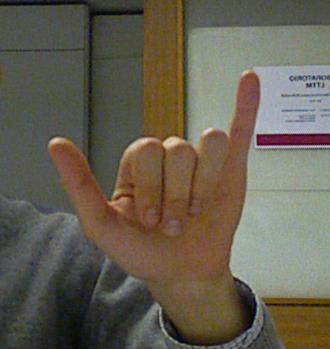clockwise: (40, 67, 265, 275)
